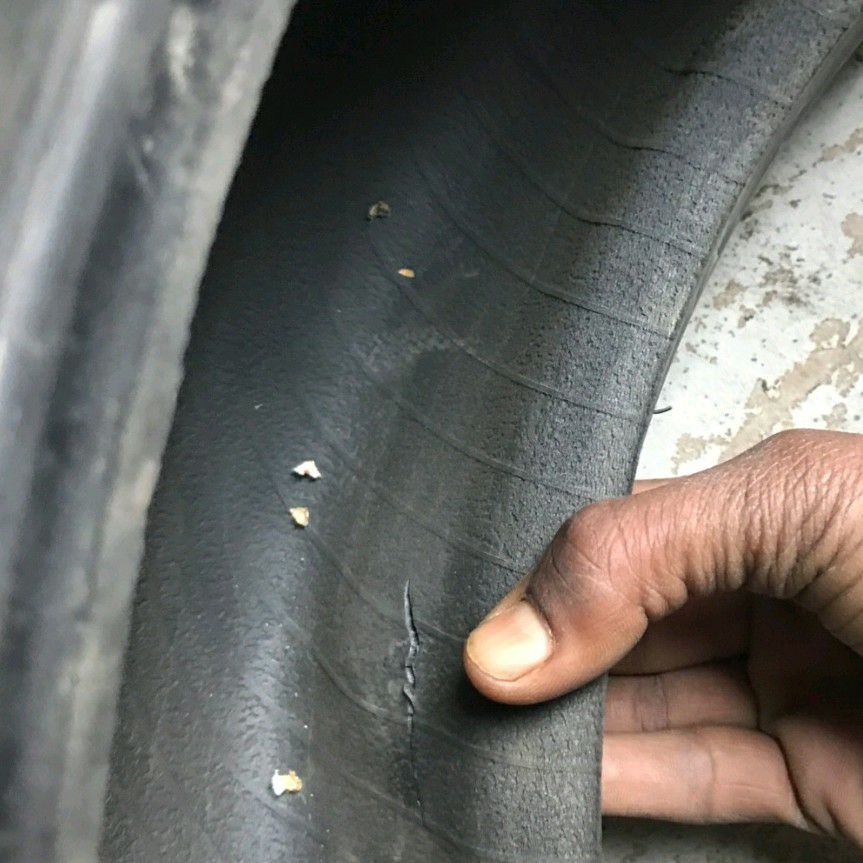cut: (401, 579, 426, 824)
